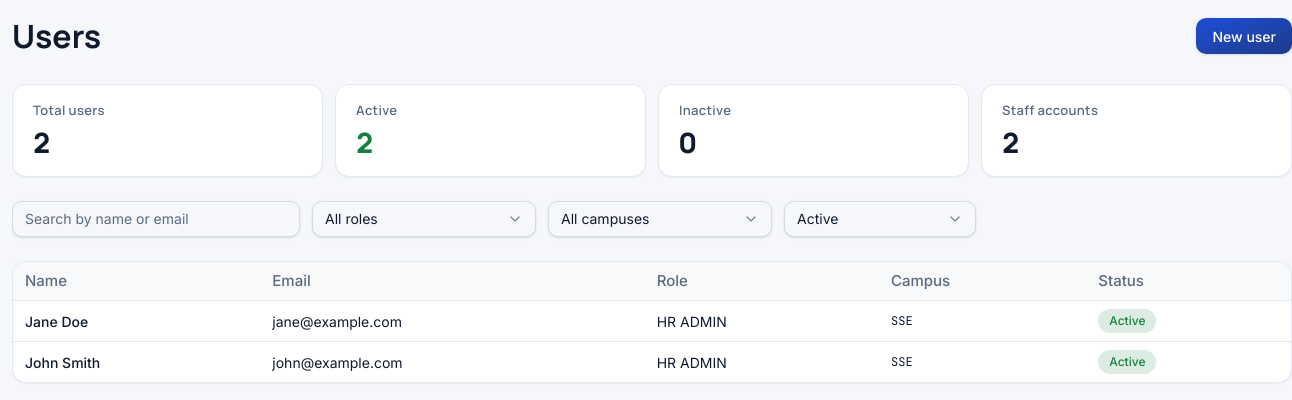
Test case: UsersListPage › narrows the list with the search box
The width and height of the screenshot is (1292, 400).
Check: the link "Jane Doe" is shown, box x1=25 y1=312 x2=88 y2=330
Check: the link "John Smith" is shown, box x1=25 y1=354 x2=100 y2=370
Type "jane" into the field with placeholder "Search by name or email". click: [156, 218]
box: x1=12 y1=200 x2=300 y2=236
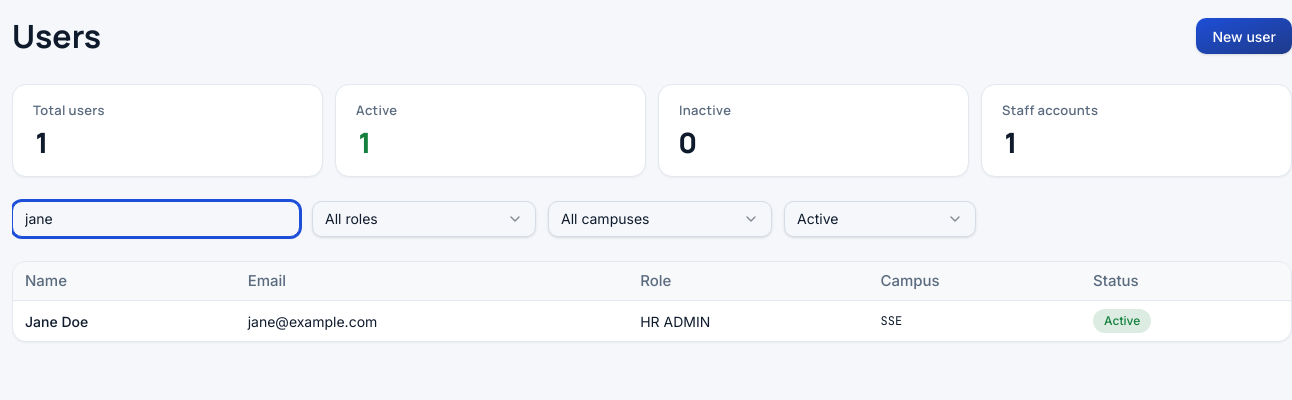
Check: the link "Jane Doe" is shown, box x1=25 y1=312 x2=88 y2=330
Check: the link "John Smith" is gone
